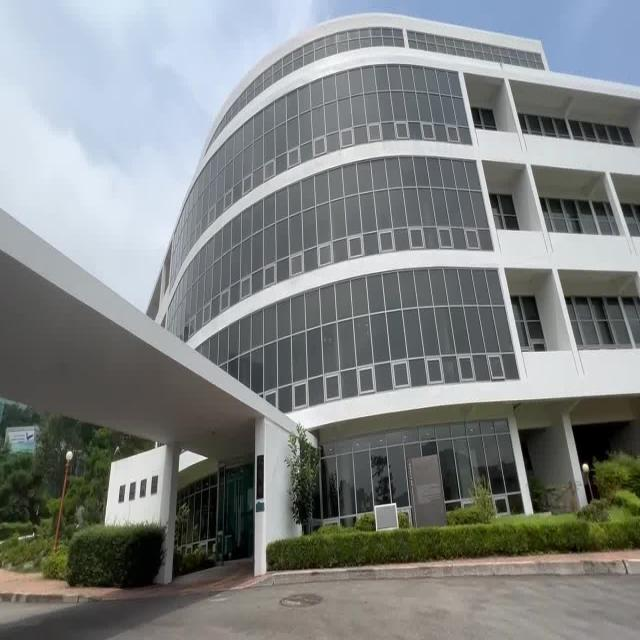building: (236, 18, 623, 445)
